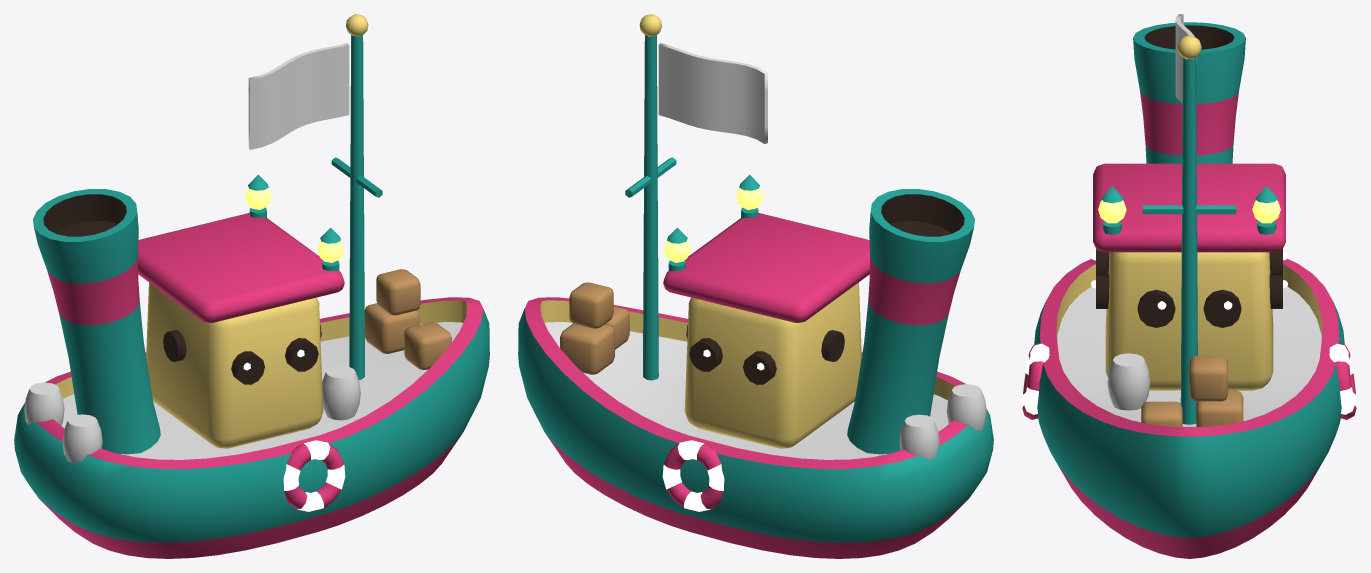
The model's file is cartoon-30-fiesta.glb.
3 renders of one model, left to right at view 1: azimuth 30°, elevation 25°; view 2: azimuth 150°, elevation 25°; view 3: azimuth 270°, elevation 25°, orthographic. The views are drawn at different scales.
Parts seen in each view (by area): view 1: hull, chimney, cabin, roof, flag, mast, crates, life_rings, portholes, barrel.002, barrel.001, barrel; view 2: hull, chimney, cabin, roof, flag, mast, crates, life_rings, portholes, barrel.001, barrel; view 3: hull, cabin, roof, chimney, mast, crates, portholes, life_rings, barrel.002, flag, lantern_glow, lantern_glow.001 (+3 smaller).
Part boxes in pixels (x1,y1,x2,y2): hull: (14, 297, 489, 558); chimney: (33, 189, 160, 454); cabin: (146, 282, 323, 448); roof: (138, 213, 344, 322); flag: (248, 43, 349, 149); mast: (331, 35, 382, 379); crates: (364, 269, 451, 369); life_rings: (283, 440, 345, 511); portholes: (163, 324, 321, 384); barrel.002: (322, 365, 360, 420); barrel.001: (62, 414, 102, 463); barrel: (24, 382, 64, 425); hull: (518, 297, 993, 558); chimney: (847, 189, 974, 454); cabin: (684, 282, 861, 448); roof: (663, 213, 869, 322); flag: (658, 43, 767, 143); mast: (625, 35, 676, 380); crates: (560, 282, 629, 374); life_rings: (662, 440, 724, 511); portholes: (686, 324, 844, 384); barrel.001: (946, 384, 986, 430); barrel: (899, 414, 939, 459); hull: (1034, 259, 1344, 558); cabin: (1105, 252, 1273, 390); roof: (1093, 163, 1285, 252); chimney: (1133, 22, 1245, 163); mast: (1142, 57, 1236, 424); crates: (1141, 355, 1243, 426); portholes: (1096, 249, 1282, 327); life_rings: (1022, 343, 1356, 419); barrel.002: (1107, 353, 1150, 410); flag: (1175, 14, 1196, 103); lantern_glow: (1098, 200, 1126, 223); lantern_glow.001: (1252, 200, 1280, 223).
Bounding box in the file's own units: 2 × 1.91 × 1.21.
